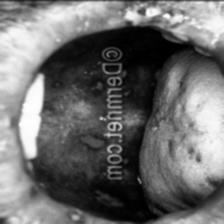Toxin: (118, 0, 158, 26), (79, 131, 105, 148), (64, 209, 86, 224)
